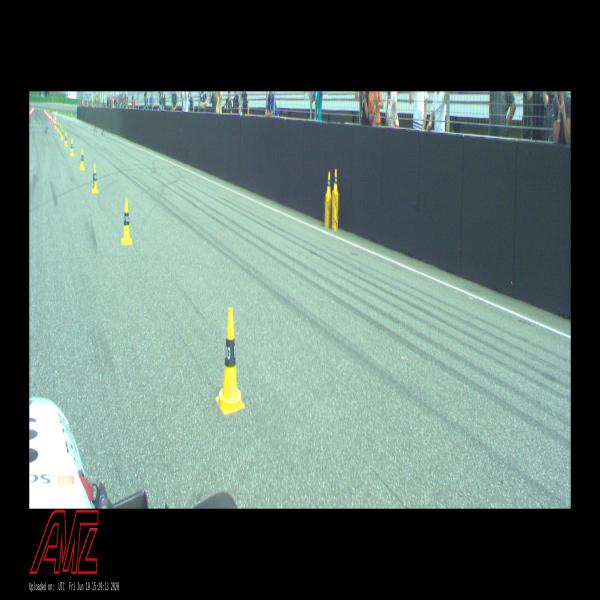yellow_cone: (215, 307, 245, 414), (121, 198, 133, 245), (92, 164, 99, 193), (80, 149, 85, 170), (70, 139, 74, 156), (65, 132, 68, 146), (61, 128, 64, 140), (59, 125, 62, 135), (58, 123, 60, 131)
